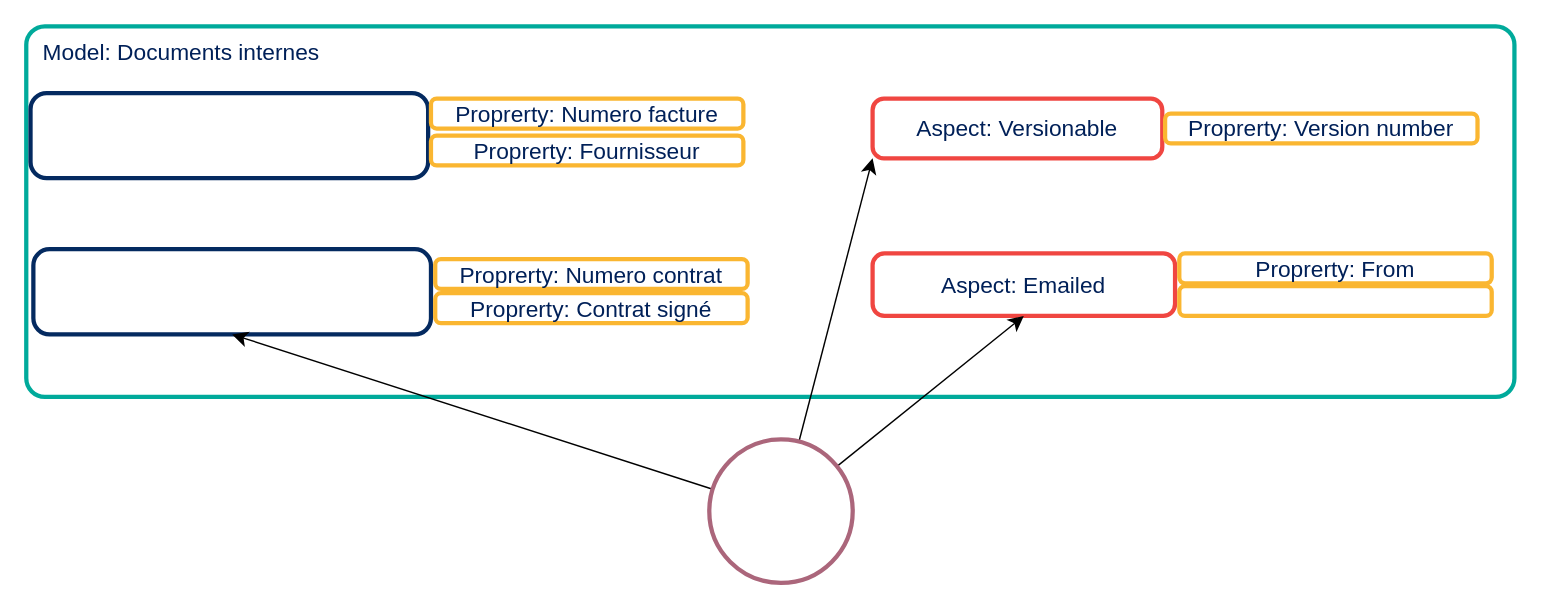
Some shapes in this 1541 by 609 pixel diagram are drawn without their labels. Here are the shapes that lost their labels. From the top down, the centre of each, then its label:
point (229, 135): Custom type : Facture
point (231, 291): Custom type : Contrat
point (1334, 300): Proprerty: To
point (780, 510): Document
